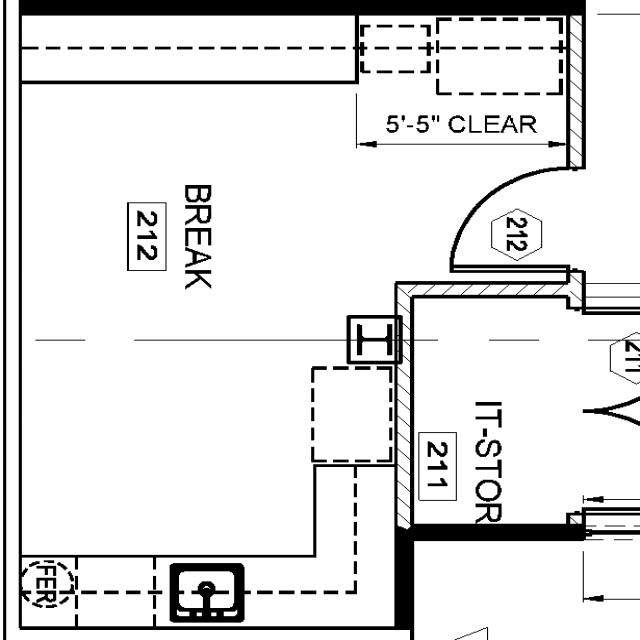Doors: (443, 159, 596, 278)
